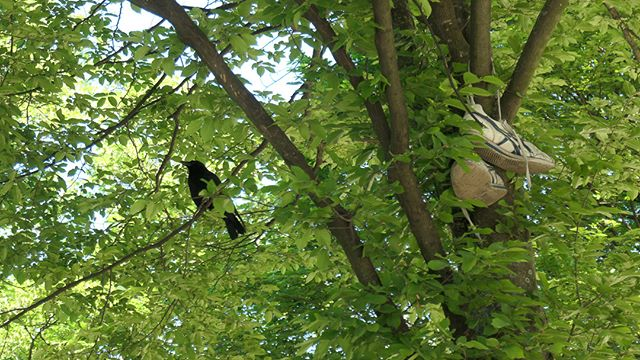animal: (180, 157, 249, 241)
shoe: (430, 93, 565, 239)
vegetation: (3, 1, 640, 357)
